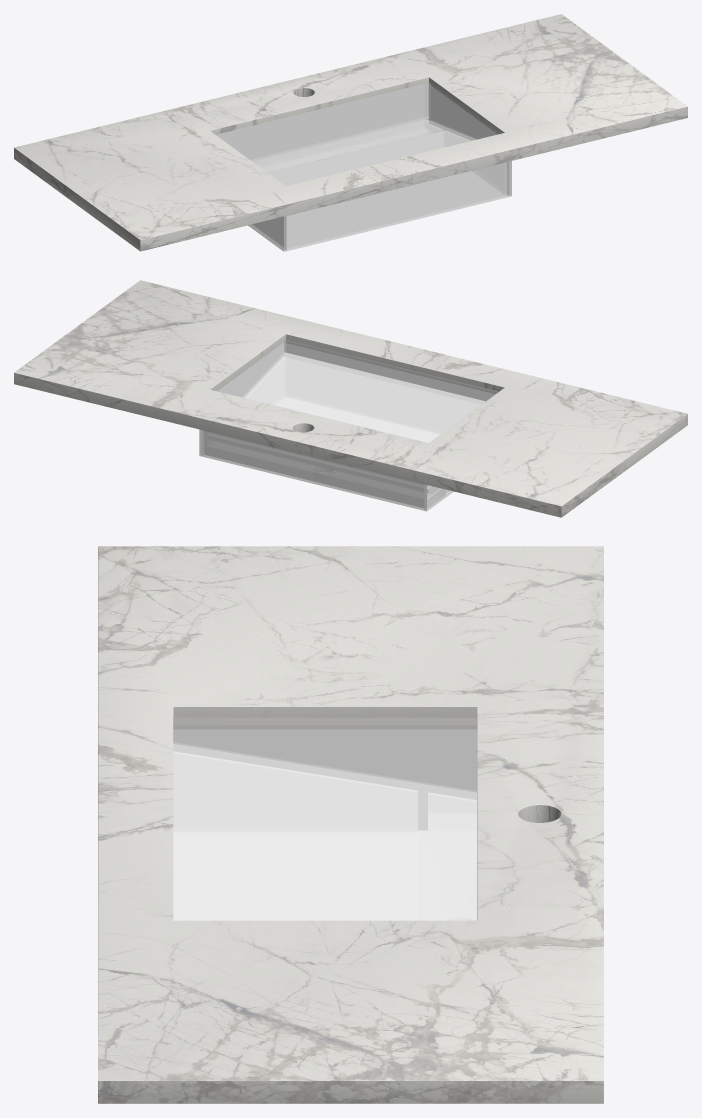
Rendered from GLS911.glb.
The picture shows the model from 3 angles, top to bottom: view 1: azimuth 30°, elevation 25°; view 2: azimuth 150°, elevation 25°; view 3: azimuth 270°, elevation 25°; orthographic projection. The views are drawn at different scales.
Visible parts, largest first — view 1: GLS 911 cer, GLS 911(встраиваемая); view 2: GLS 911 cer, GLS 911(встраиваемая); view 3: GLS 911 cer, GLS 911(встраиваемая).
Part boxes in pixels (left/top/right/bottom): GLS 911 cer: left=14, top=14, right=687, bottom=251; GLS 911(встраиваемая): left=216, top=83, right=511, bottom=251; GLS 911 cer: left=14, top=280, right=687, bottom=517; GLS 911(встраиваемая): left=199, top=339, right=498, bottom=511; GLS 911 cer: left=98, top=546, right=603, bottom=1103; GLS 911(встраиваемая): left=173, top=717, right=476, bottom=920.
Bounding box in the file's own units: 1.5 × 0.1645 × 0.6.
3 materials, 1 textured.
